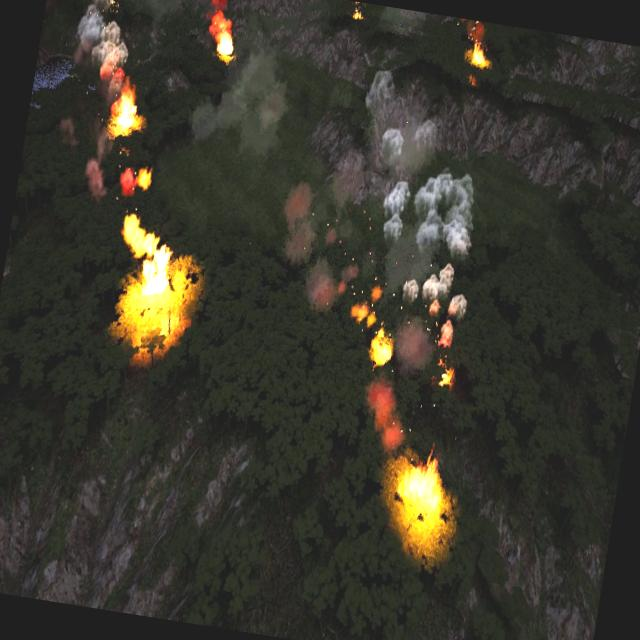fire: (104, 212, 202, 357), (389, 454, 449, 537), (108, 90, 143, 140), (205, 11, 238, 61), (368, 332, 395, 369), (468, 40, 491, 67), (134, 168, 152, 192), (438, 366, 456, 390), (353, 5, 365, 20)
smoke: (246, 57, 501, 460), (188, 32, 298, 162), (34, 0, 141, 91), (354, 376, 410, 458), (374, 6, 488, 44), (82, 130, 115, 202), (56, 115, 82, 152), (118, 166, 138, 197)
